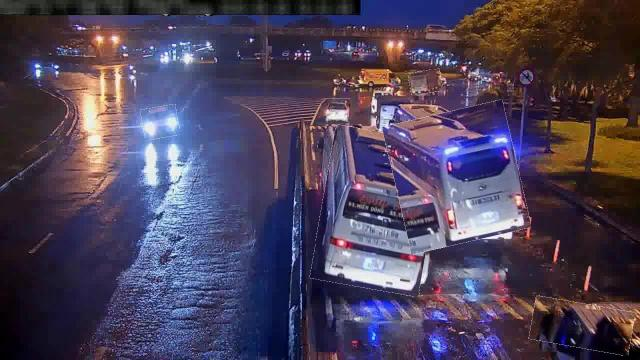Bus: (316, 129, 438, 293), (389, 105, 525, 248)
Car: (530, 300, 634, 352), (142, 105, 178, 139), (323, 99, 351, 122)
Truck: (410, 70, 442, 94)
